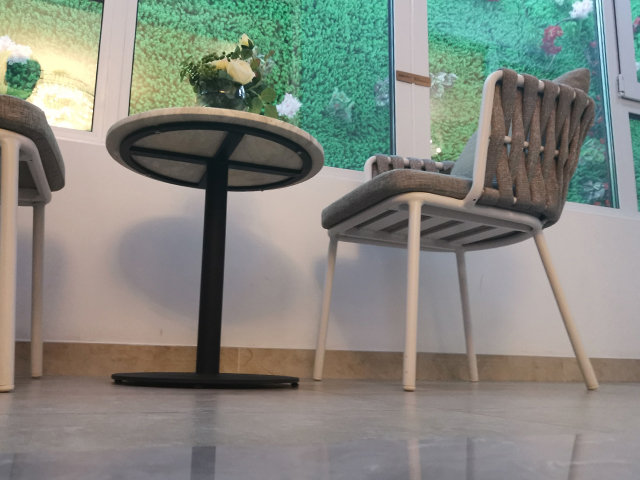stool: (311, 66, 600, 393), (1, 93, 67, 394)
table: (104, 105, 326, 392)
